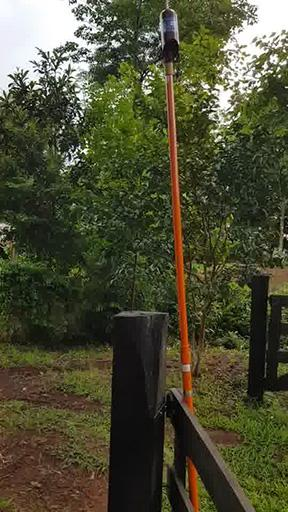Detector_Tensao_Contato: (160, 1, 181, 63)
Vara_Manobra: (160, 63, 192, 411)
